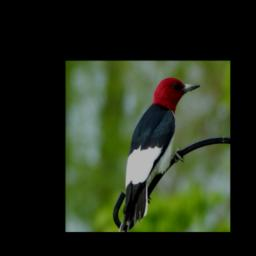Woodpecker: (116, 76, 202, 232)
